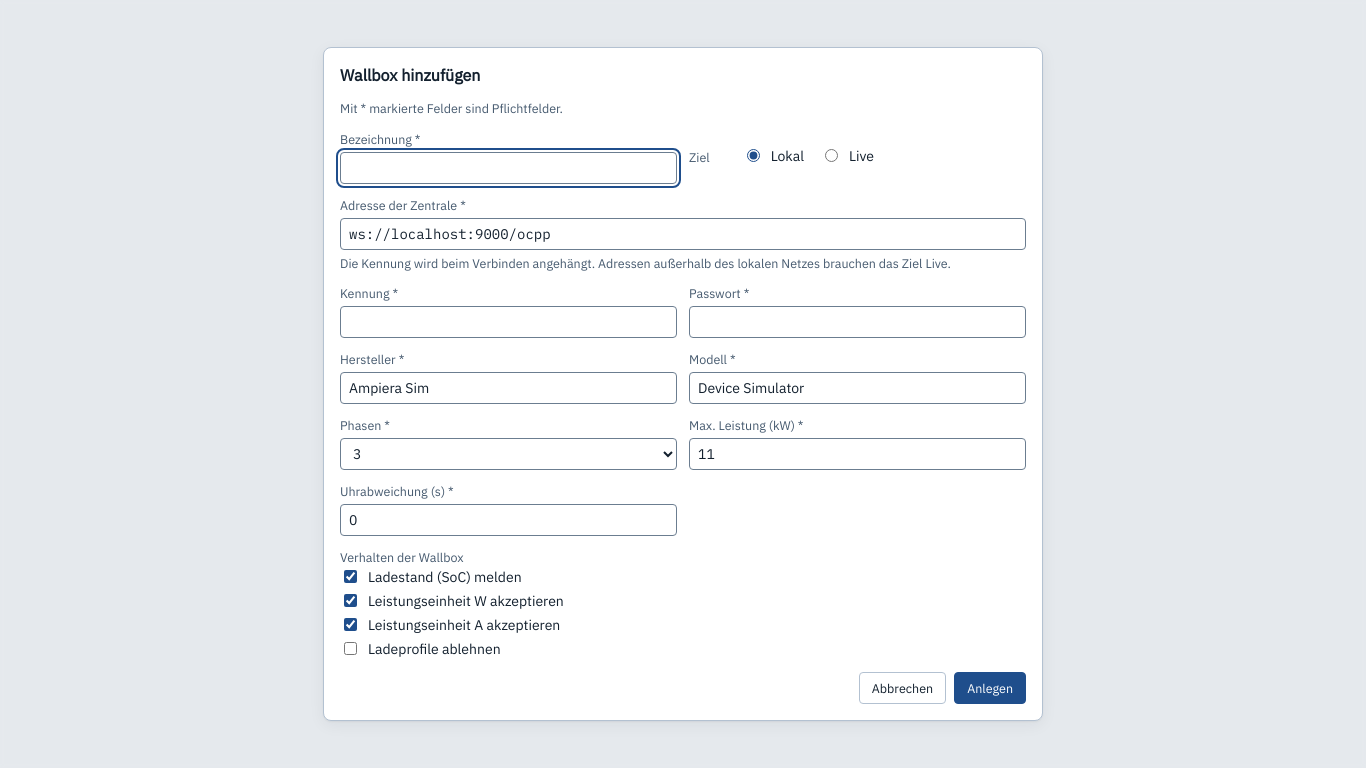
Test case: AddBoxDialog › titles the dialog as live and requires the live target for public hosts
Expected: the heading "Wallbox hinzufügen" is shown, [340,65,480,85]
In the field labelled "Bezeichnung": (508, 168) [340,152,677,184], type "Box 1"
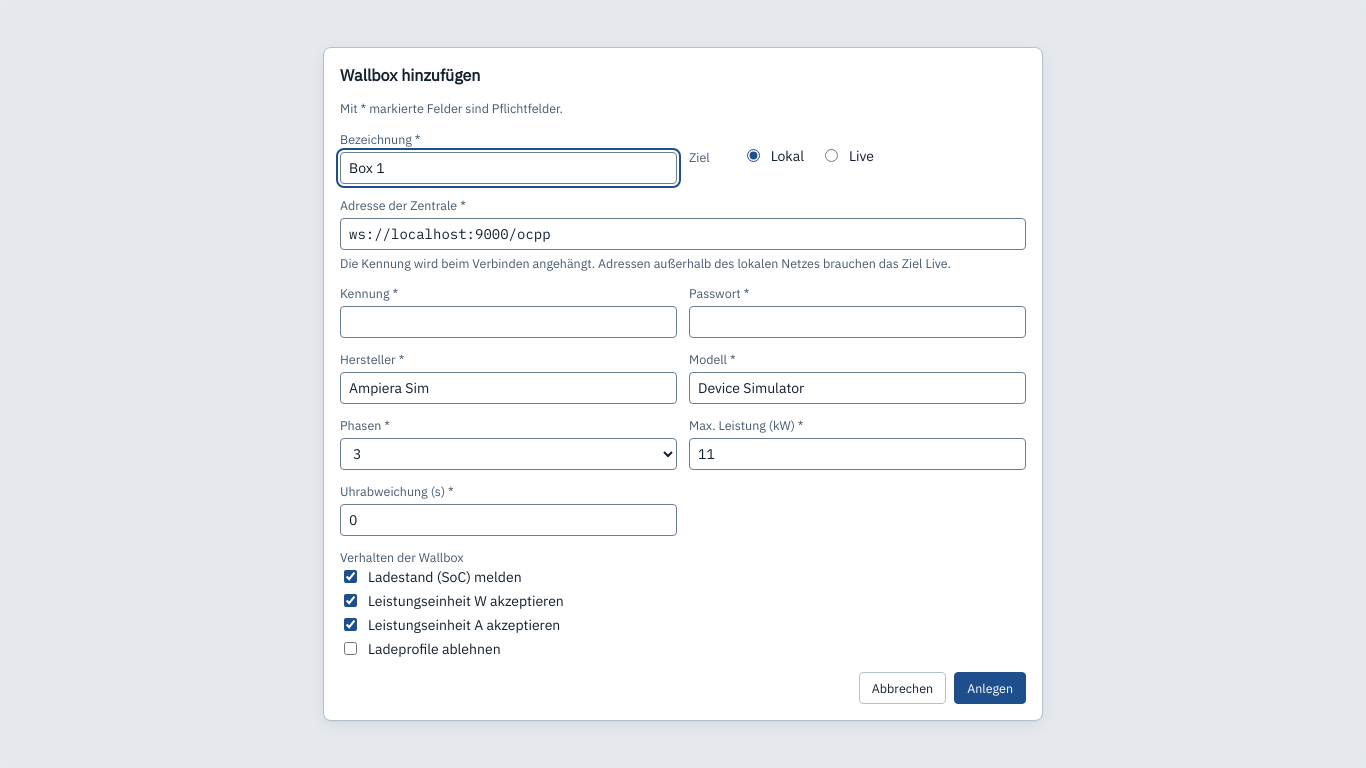
In the field labelled "Kennung": (508, 322) [340,306,677,338], type "AP7K2M9QX4RT"
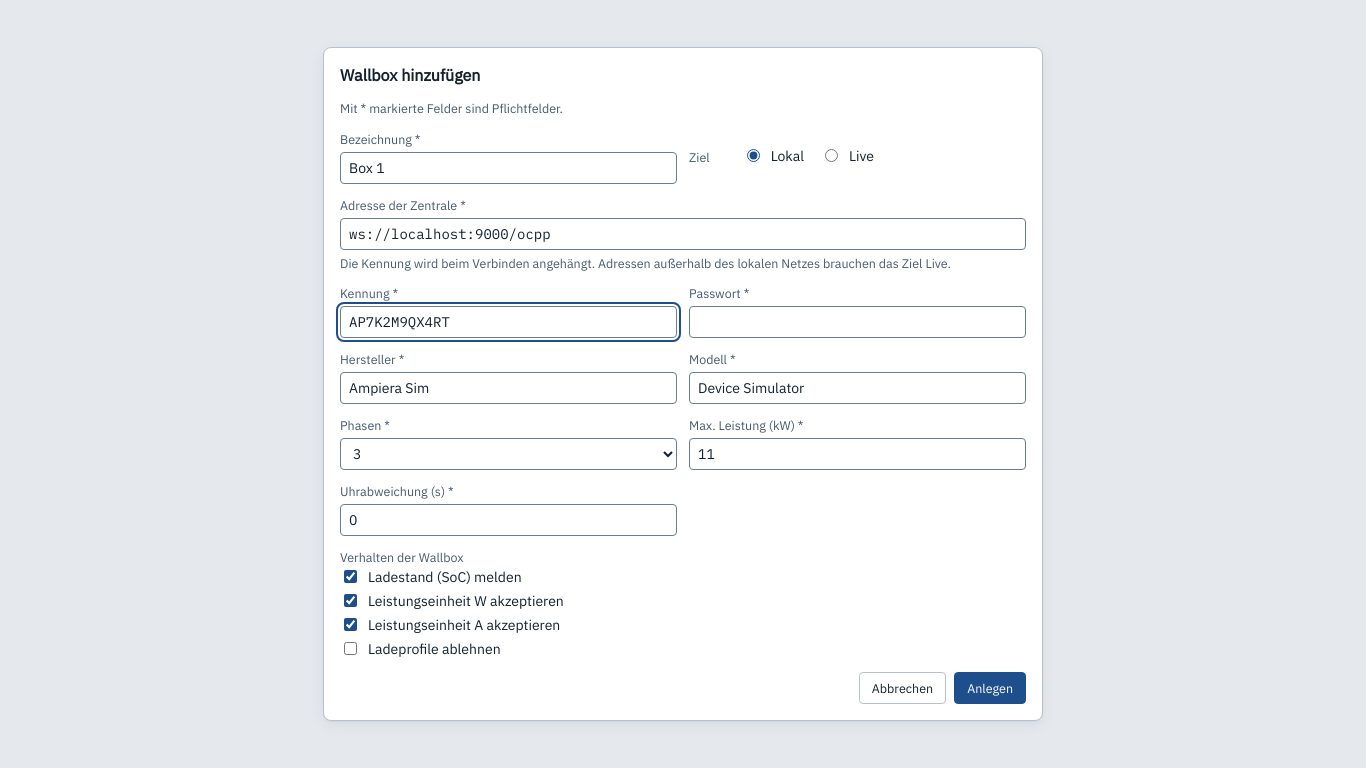
In the password field labelled "Passwort": (858, 322) [689,306,1026,338], type "geheim"
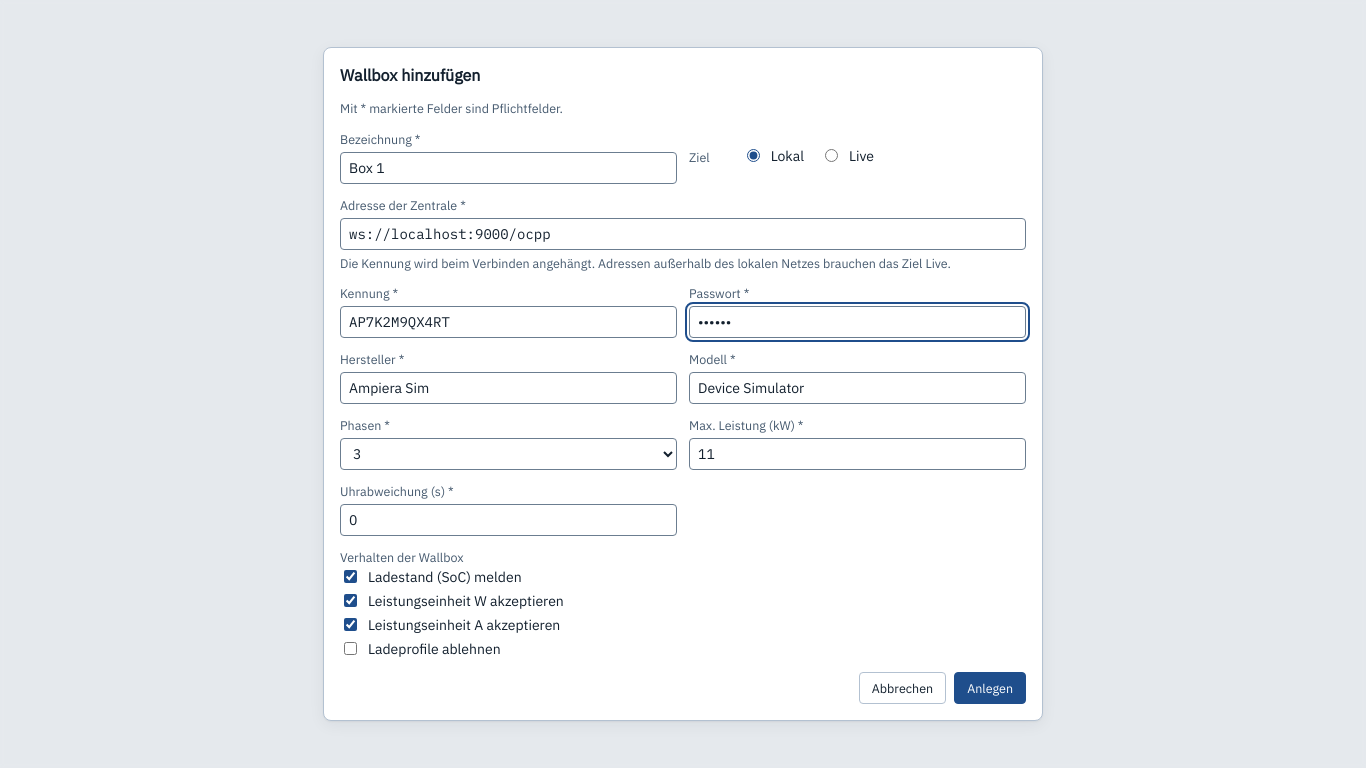
Replace the text in the field labelled "Adresse der Zentrale" with "wss://api.ampiera.de/ocpp": (683, 234) [340,218,1026,250]
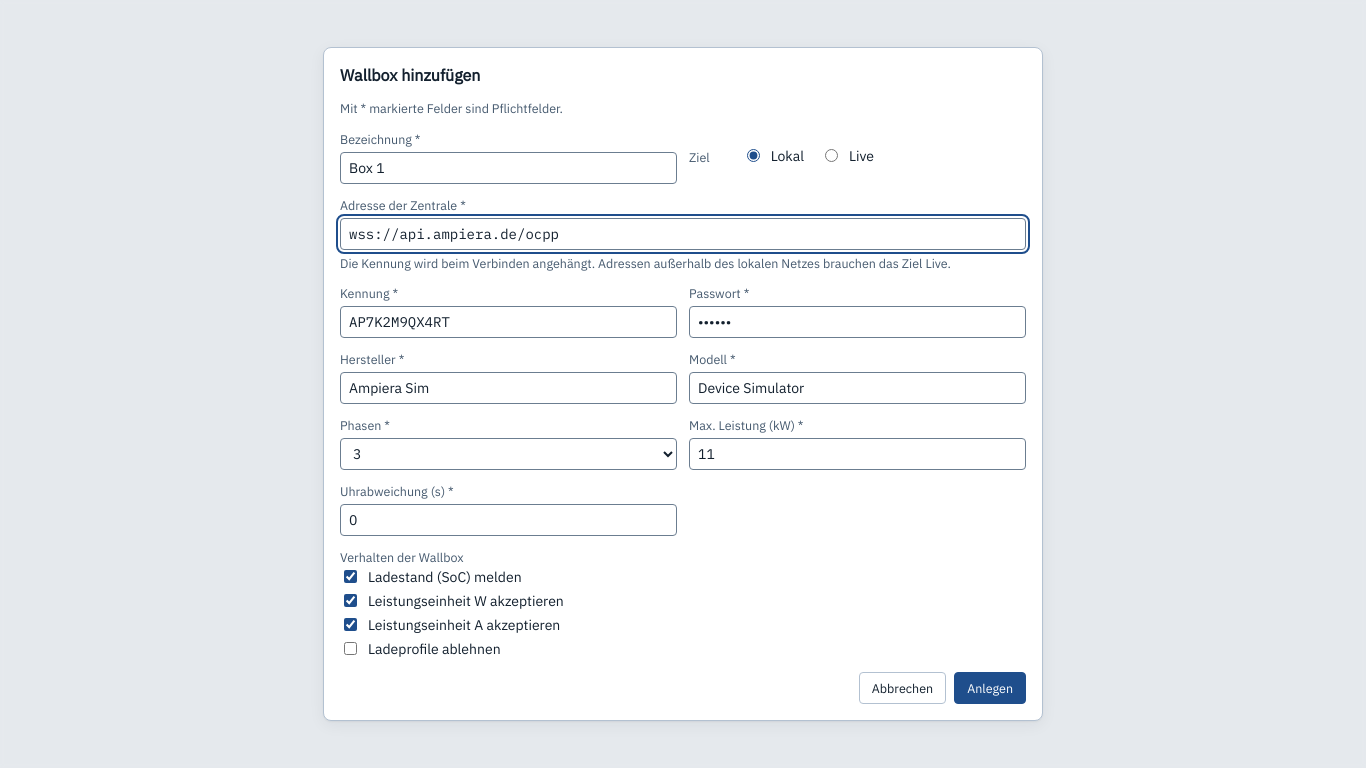
Click the button "Anlegen": (990, 688) [954,672,1026,704]
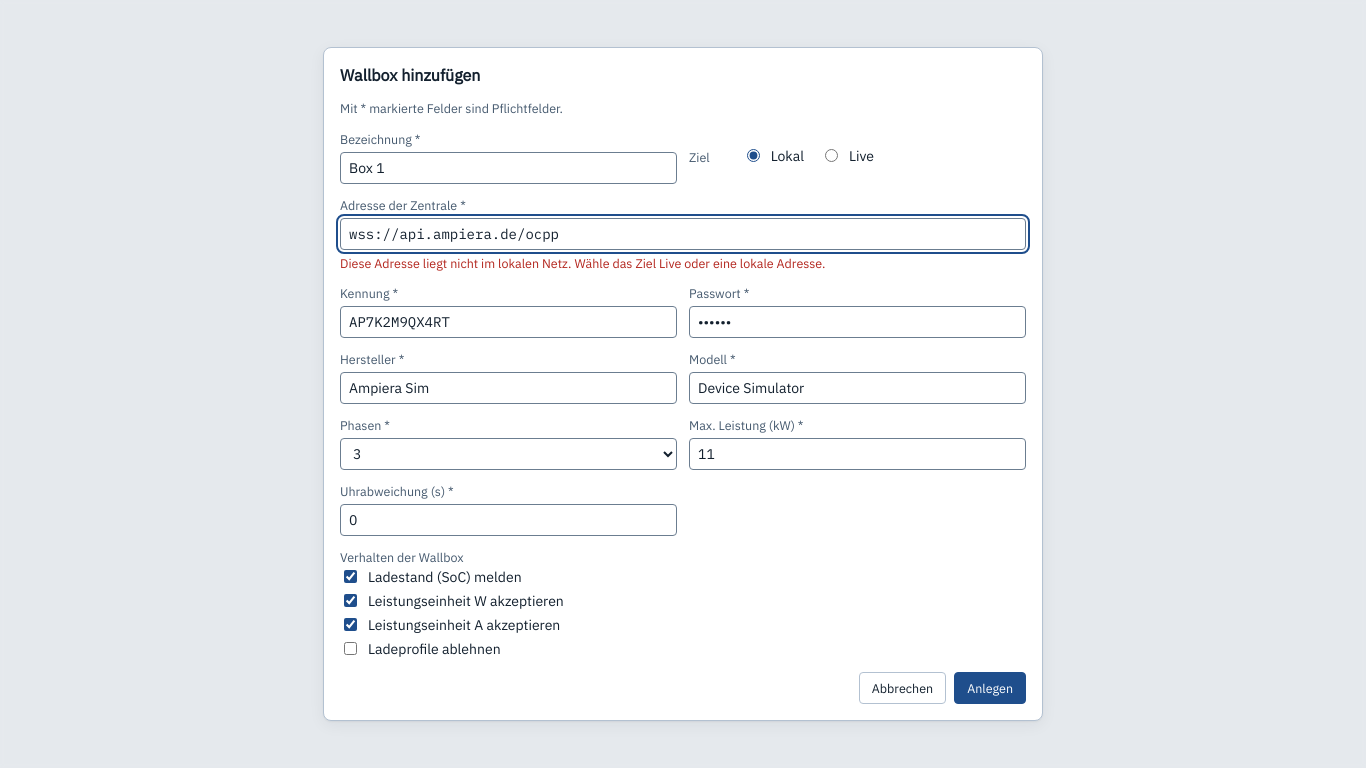
Result: the text "nicht im lokalen Netz" is shown at [340,255,825,271]
Click the radio button labelled "Live": (832, 156) [825,150,838,162]
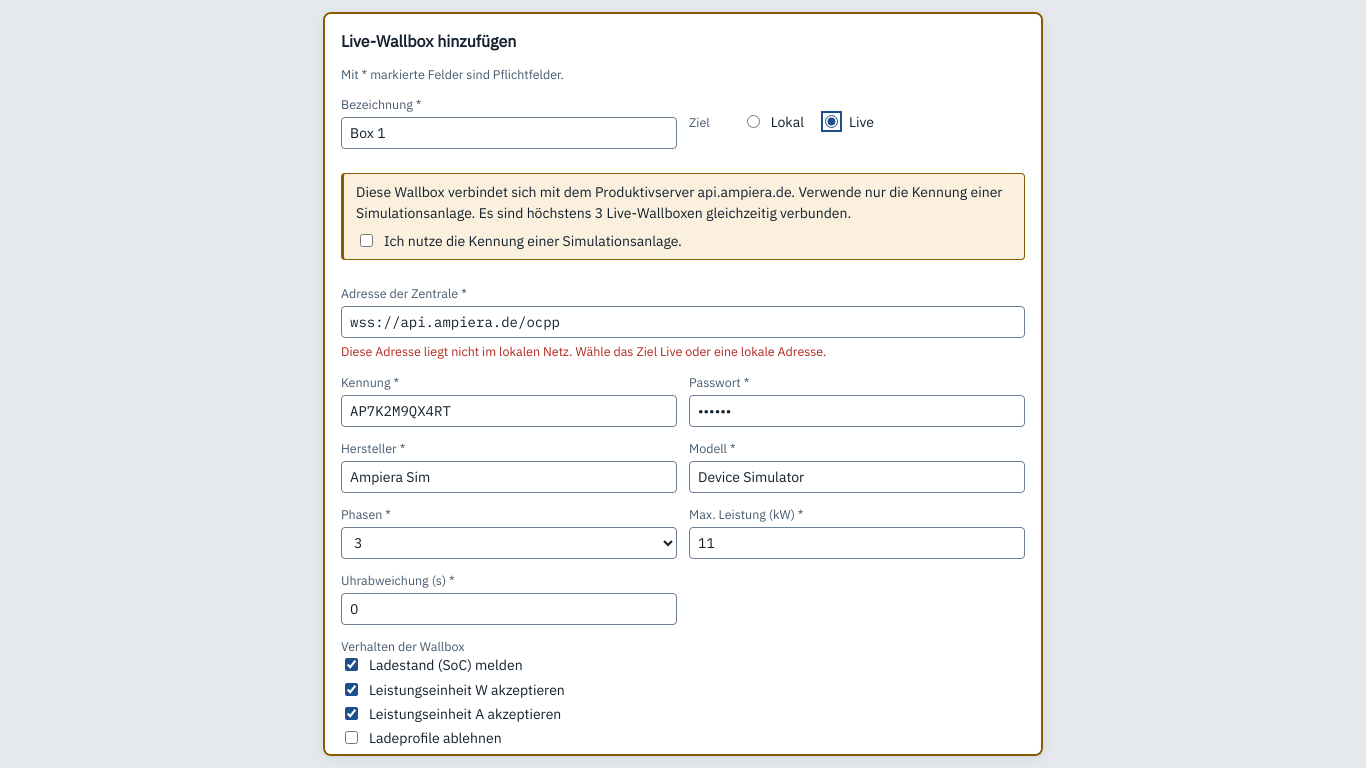
Result: the heading "Live-Wallbox hinzufügen" is shown at [341,31,516,51]
